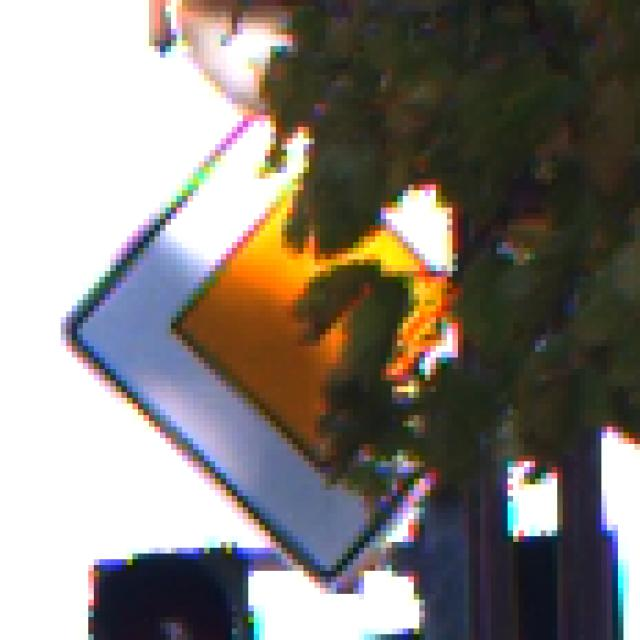Main Road: (56, 53, 586, 589)
